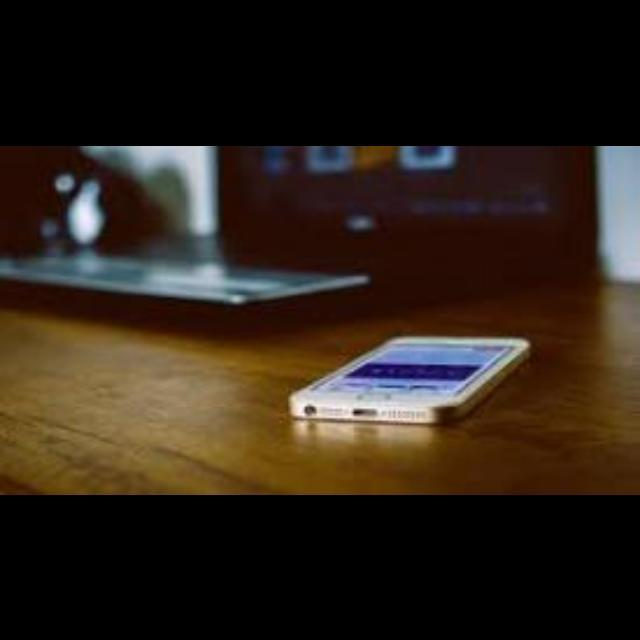Phone: (290, 335, 530, 425)
